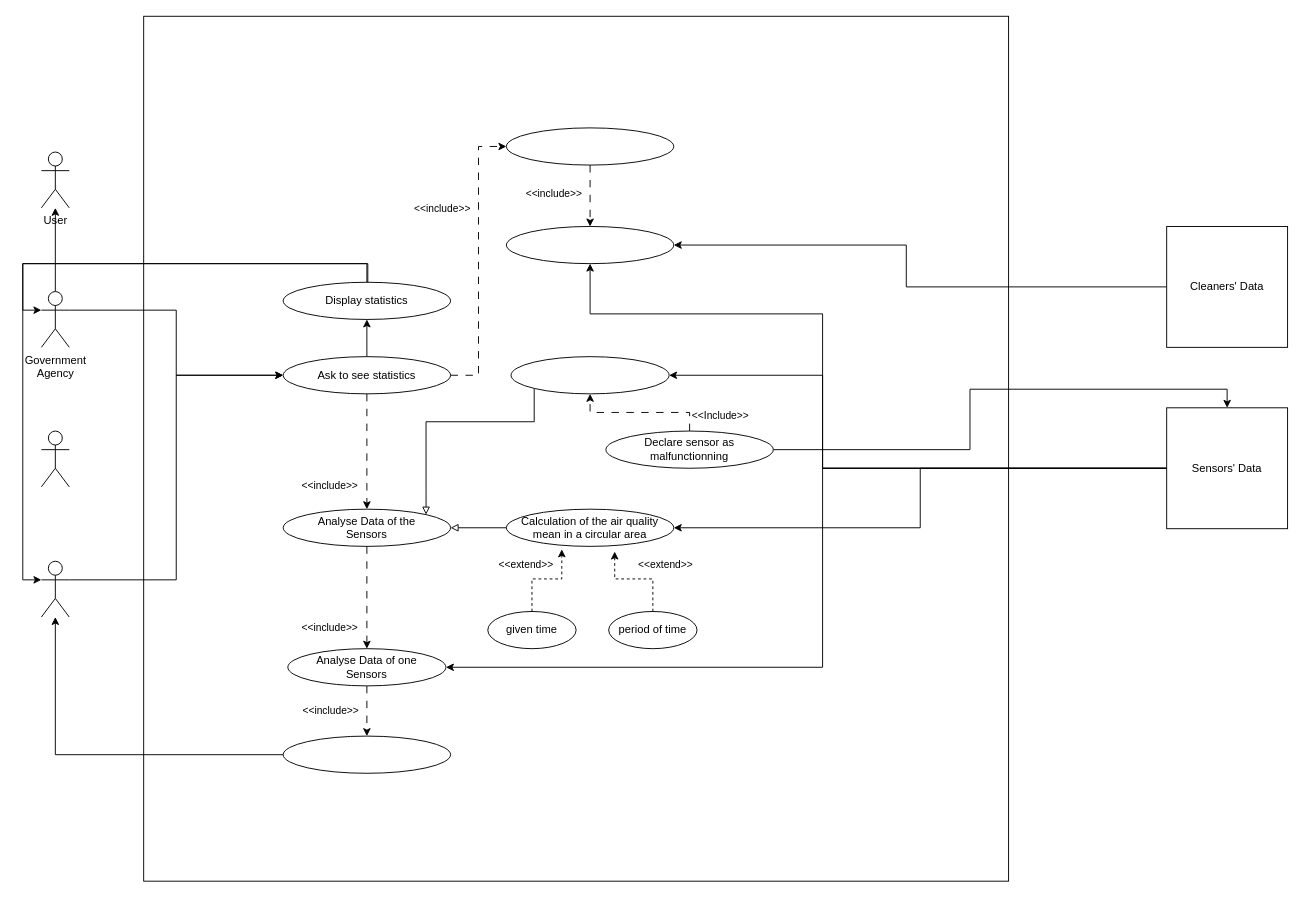
This 1304x897 diagram has some shape labels left out. The shapes that lost their labels are listed below. From the top down, each one's centre as x and y in pixels, then its label:
(x=589, y=146): Analyze the cleaners efficiency
(x=589, y=245): Analyze a cleaner efficiency
(x=589, y=375): Identify malfunctioning sensor
(x=54, y=458): Provider
(x=54, y=588): Private User
(x=366, y=754): Award point
